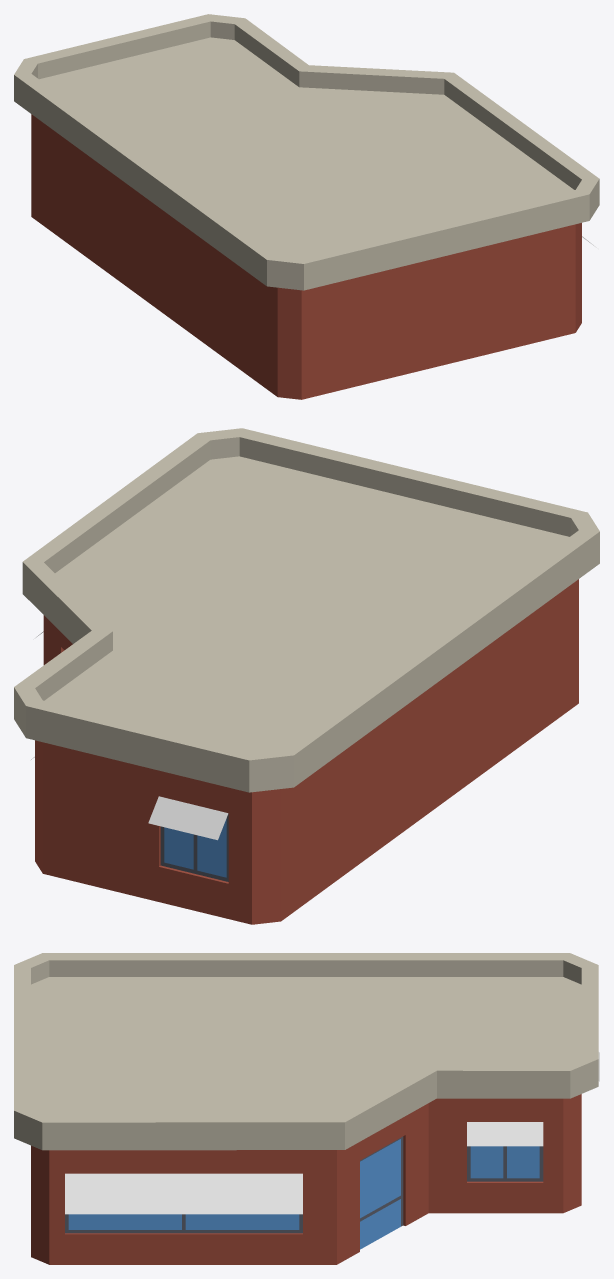
The model's file is cafe_r2.fbx.
The picture shows the model from 3 angles, top to bottom: view 1: azimuth 30°, elevation 25°; view 2: azimuth 150°, elevation 25°; view 3: azimuth 270°, elevation 25°; orthographic projection. The views are drawn at different scales.
Visible parts, largest first — view 1: Cafe2; view 2: Cafe2; view 3: Cafe2.
Part boxes in pixels (x1=…): Cafe2: x1=14, y1=14, x2=599, y2=399; Cafe2: x1=14, y1=428, x2=599, y2=924; Cafe2: x1=14, y1=953, x2=599, y2=1264.
Bounding box in the file's own units: 6777 × 2696 × 9577.
